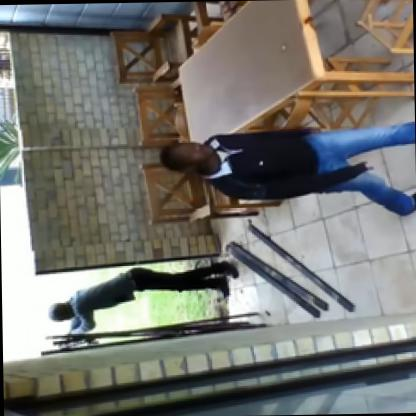Human Body: (153, 104, 415, 226), (41, 260, 240, 342)
